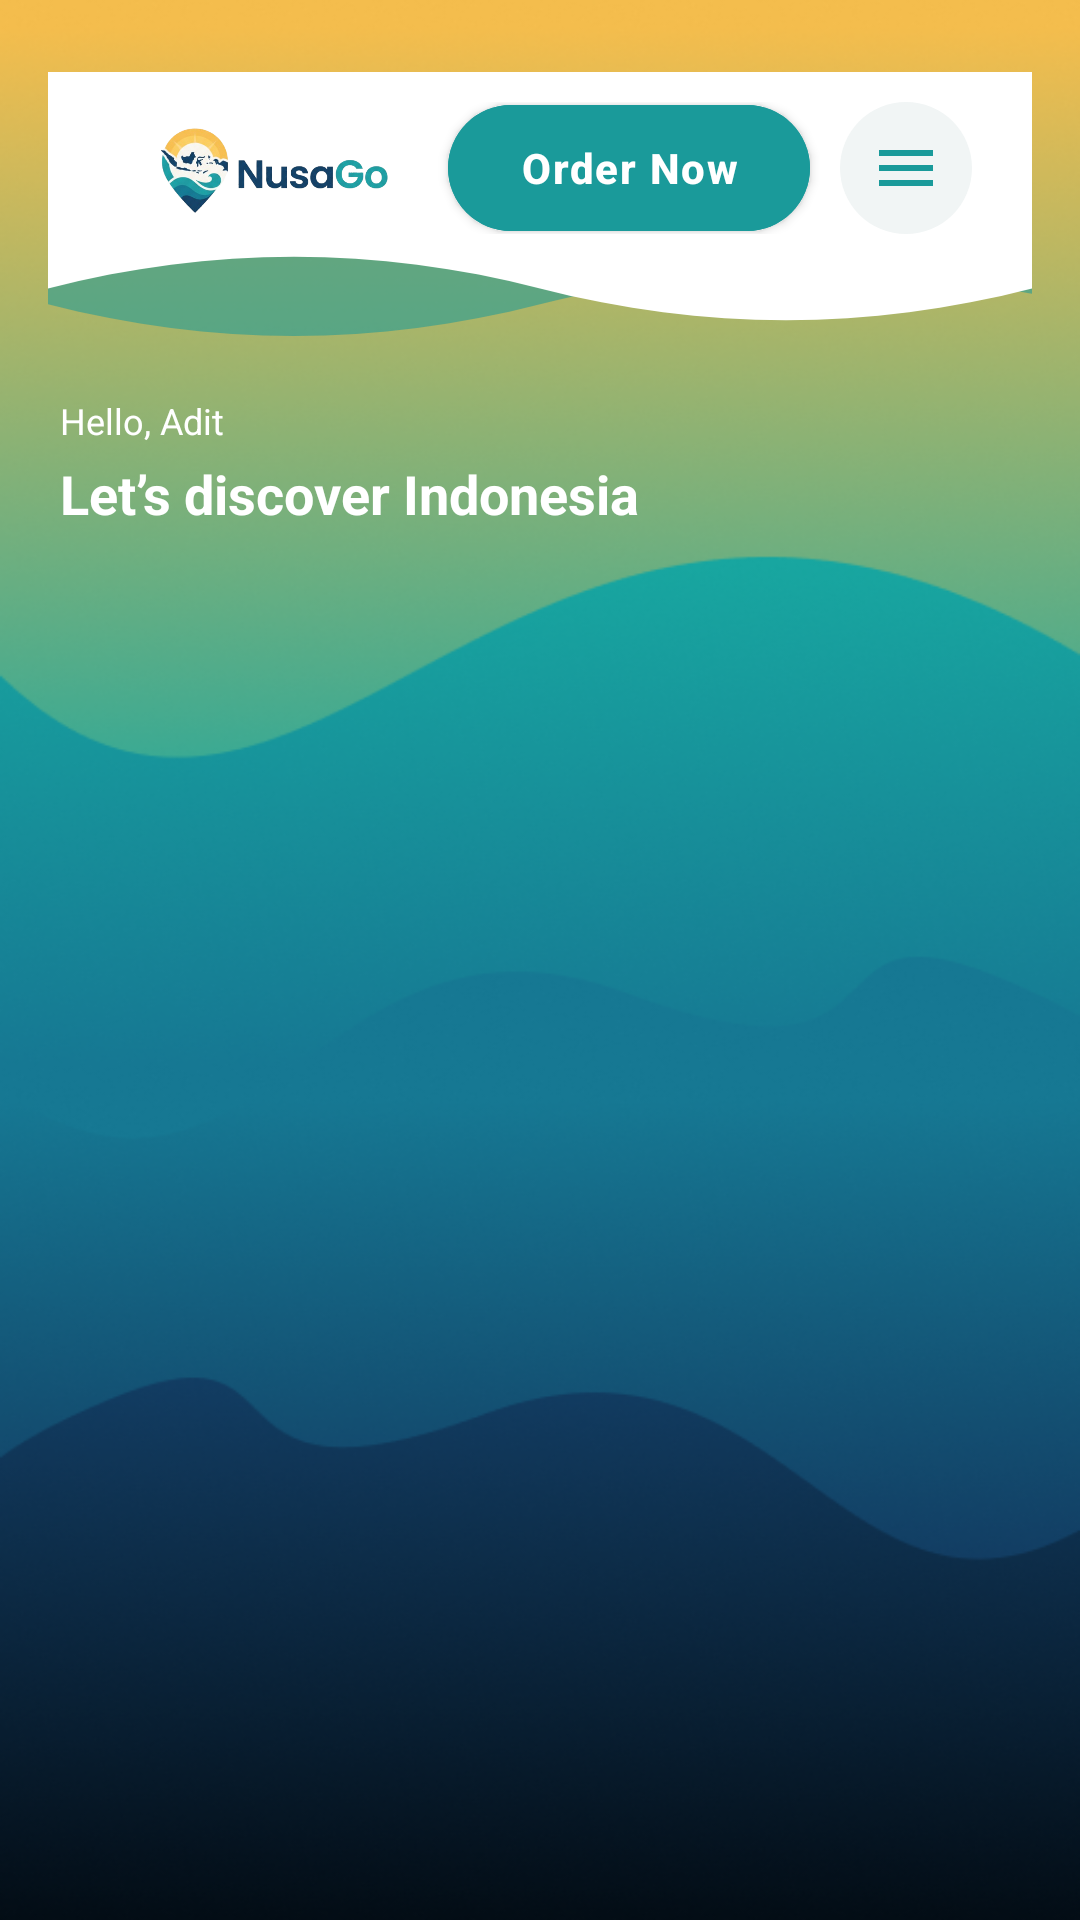

Screen size 1080×1920. Icon name, then its center in pixels as point (x, y):
Open menu: point (906, 168)
